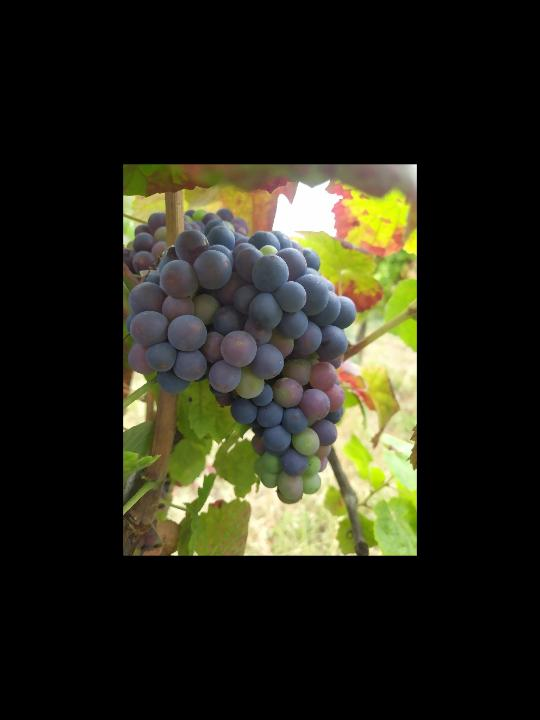grape: (124, 223, 359, 506)
